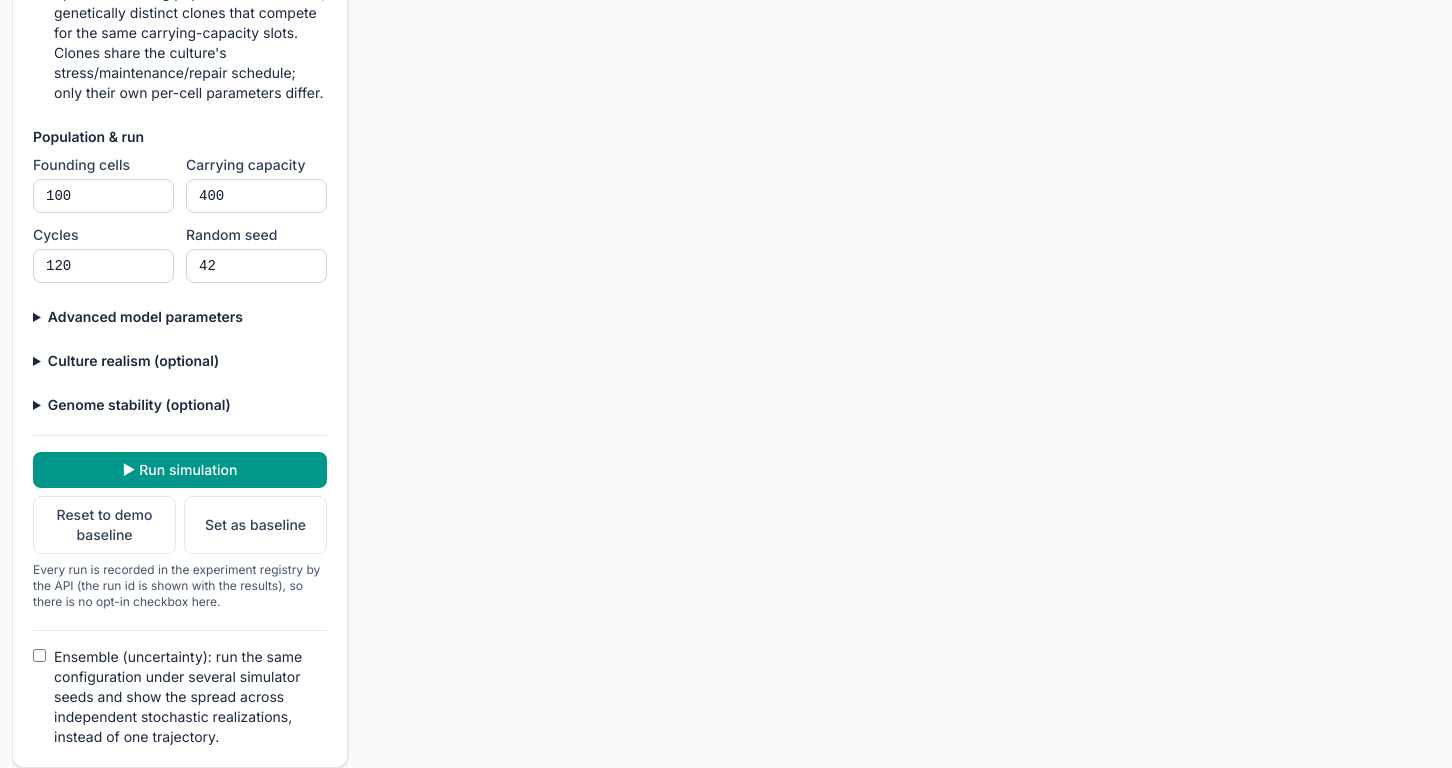
Test: Simulate page › shows the API error on a 400
(page scrolled)
Click the button "▶ Run simulation" at (180, 470), box [33, 452, 327, 488]
(page scrolled)
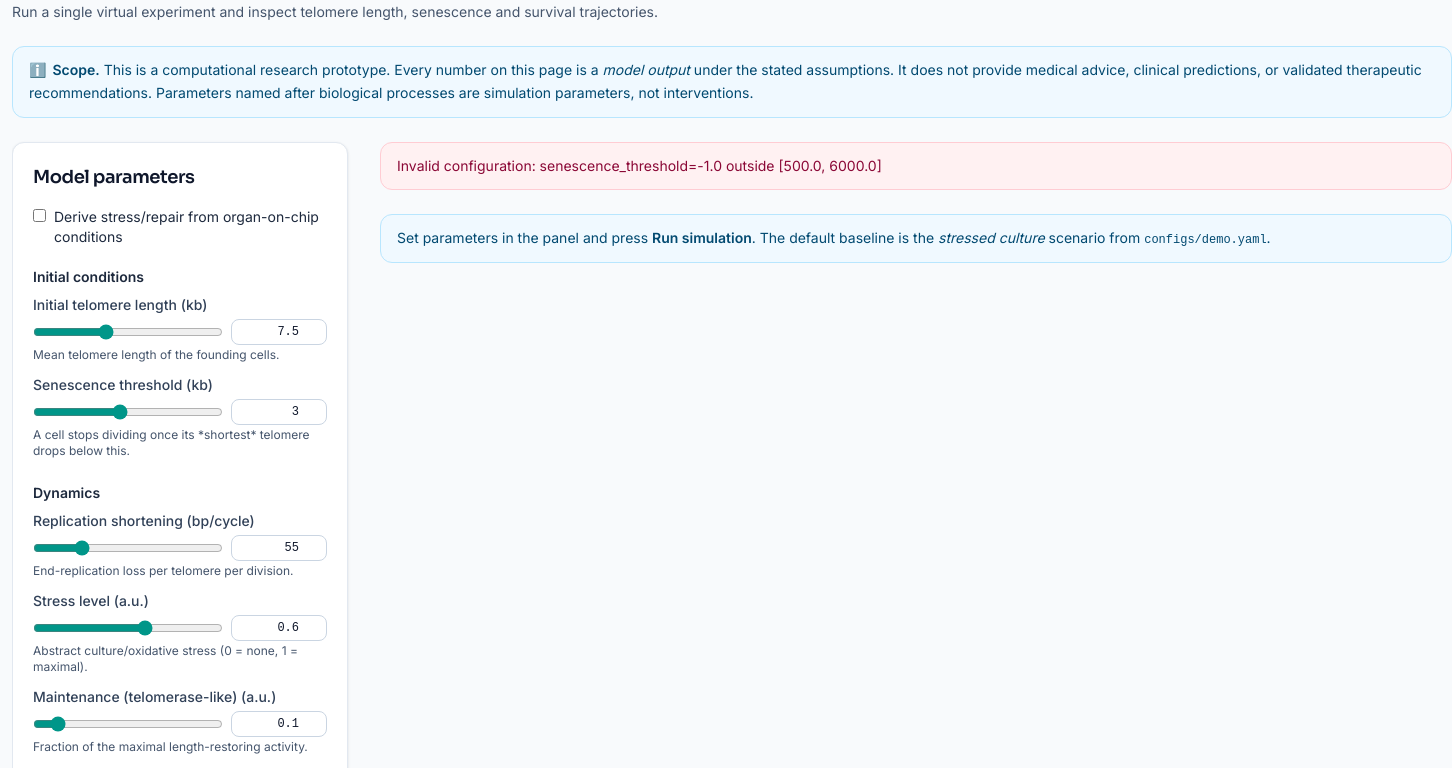
Result: the message shows "Invalid configuration: senescence_threshold=-1.0" at [397, 156, 882, 174]
